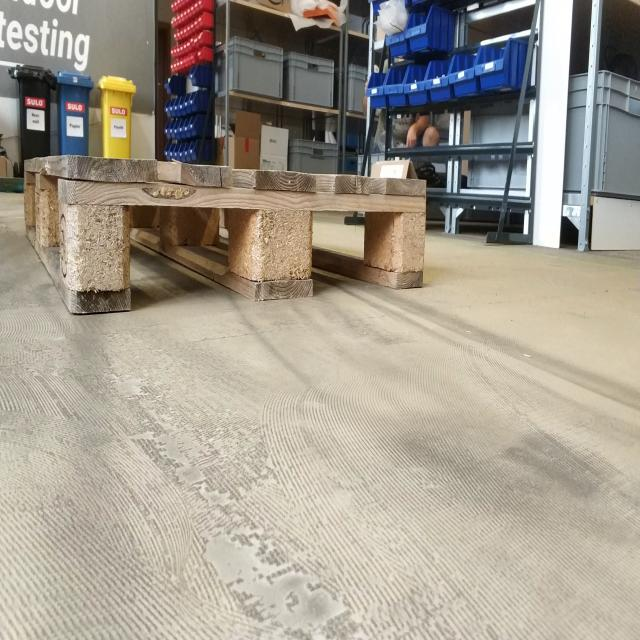block: (66, 156, 133, 315), (249, 170, 314, 304), (385, 175, 428, 290)
front: (63, 156, 427, 296)
